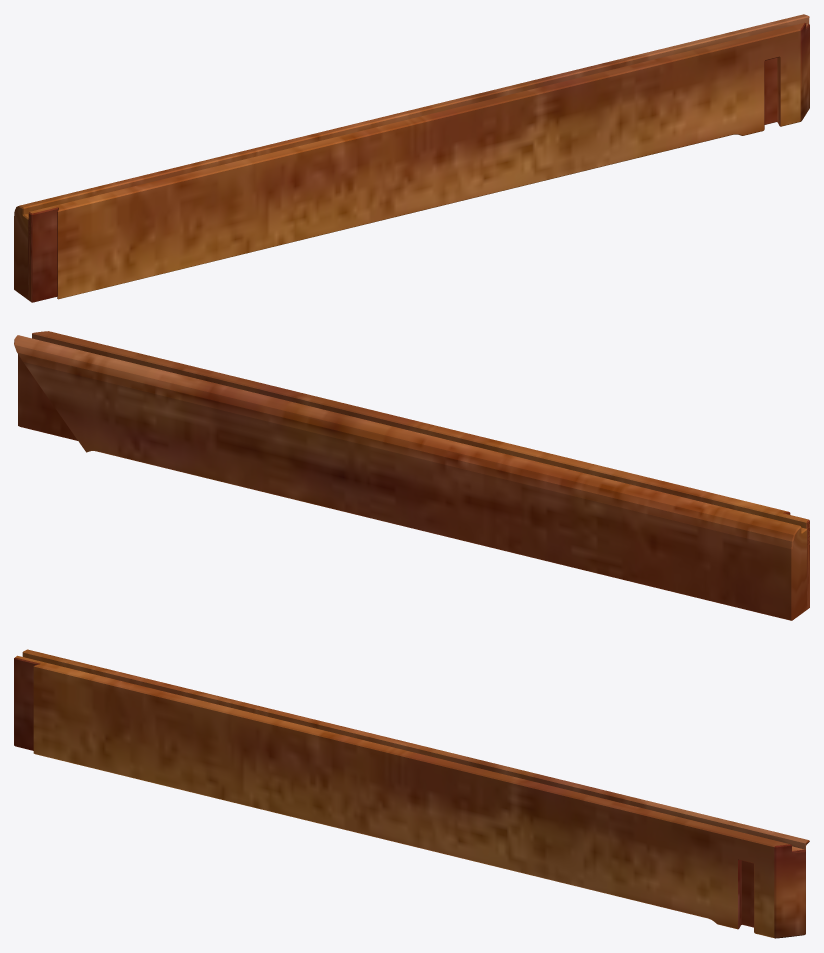
The model's file is baxianzhuo_J_yaban_02.FBX.
3 renders of one model, top to bottom at view 1: azimuth 30°, elevation 25°; view 2: azimuth 150°, elevation 25°; view 3: azimuth 330°, elevation 25°, orthographic.
Visible parts, largest first — view 1: baxianzhuo_J_yaban_02; view 2: baxianzhuo_J_yaban_02; view 3: baxianzhuo_J_yaban_02.
Part boxes in pixels (<box>): baxianzhuo_J_yaban_02: <box>14,14,809,302</box>; baxianzhuo_J_yaban_02: <box>14,331,809,620</box>; baxianzhuo_J_yaban_02: <box>14,649,809,938</box>.
Size of the model in its own units: 46.96 by 5.3 by 2.2.
1 material, 1 textured.
